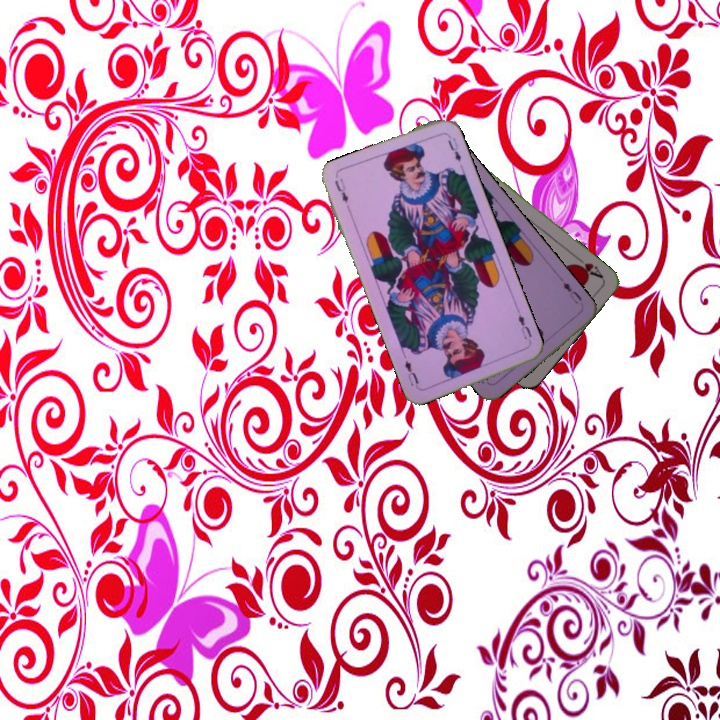EU: (513, 306, 534, 342), (559, 278, 585, 306), (331, 174, 351, 205)
HA: (569, 253, 606, 281)
